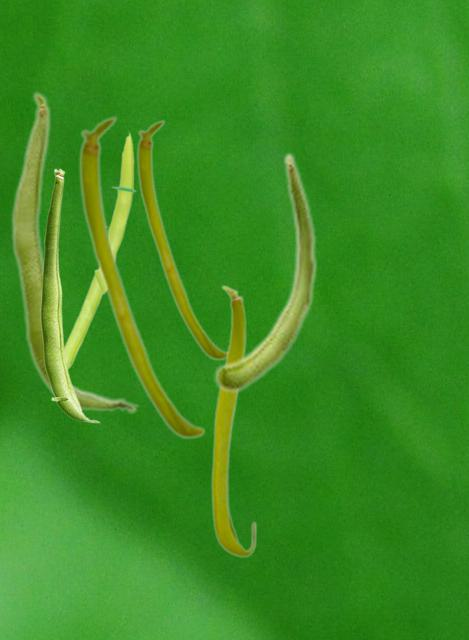french_bean: (9, 90, 138, 414), (78, 115, 205, 439), (213, 151, 317, 392), (136, 119, 225, 360), (65, 129, 136, 369), (40, 168, 100, 422), (210, 284, 256, 557)
